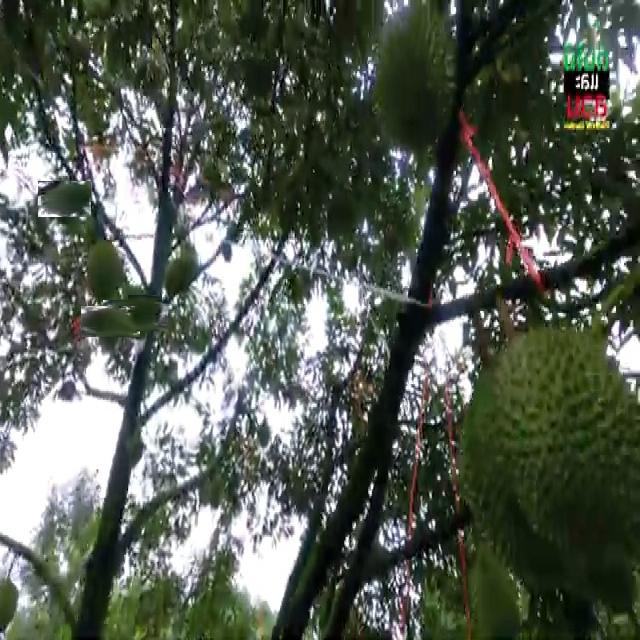durian: (456, 320, 639, 601), (370, 3, 460, 158), (83, 234, 128, 300), (111, 288, 161, 338), (88, 299, 133, 344), (43, 177, 87, 222), (162, 254, 189, 303)
